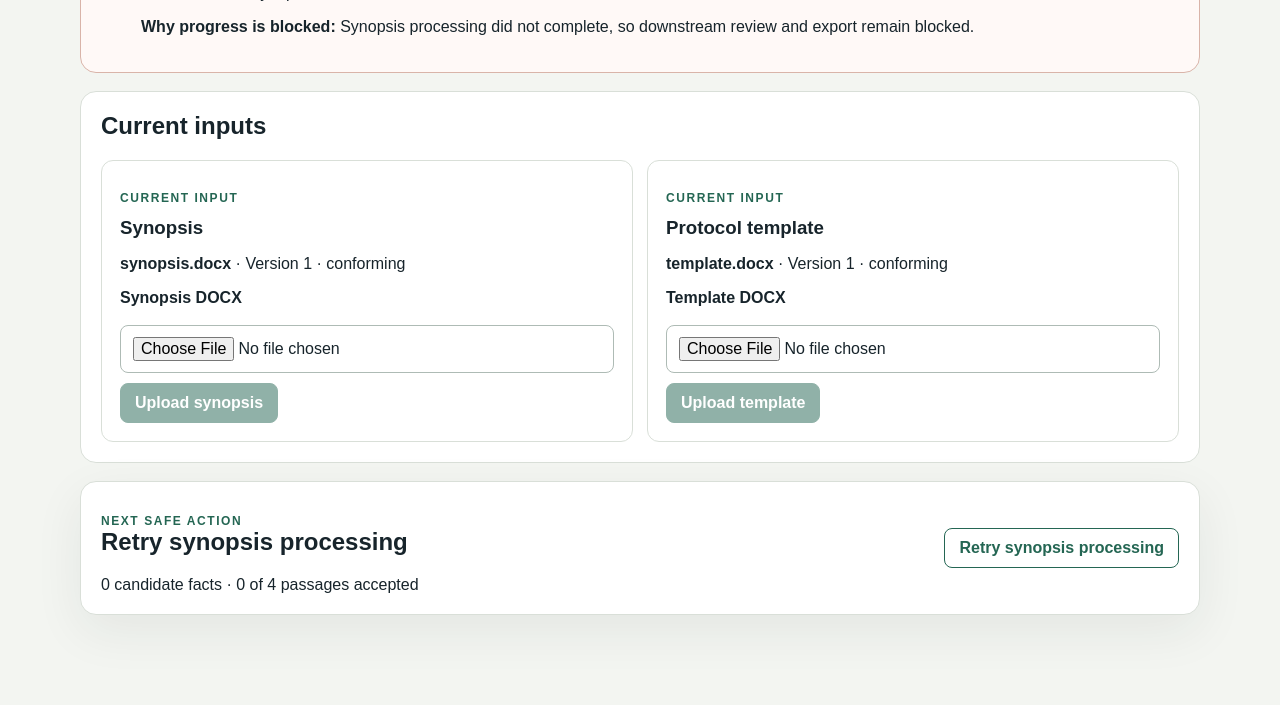
Test: WorkspaceGuide › shows processing findings and retry then replaces state from the authoritative response
This screenshot has width=1280, height=705.
(page scrolled)
Click the button "Retry synopsis processing".
click(1062, 548)  # box 944,528 -> 1179,568
(page scrolled)
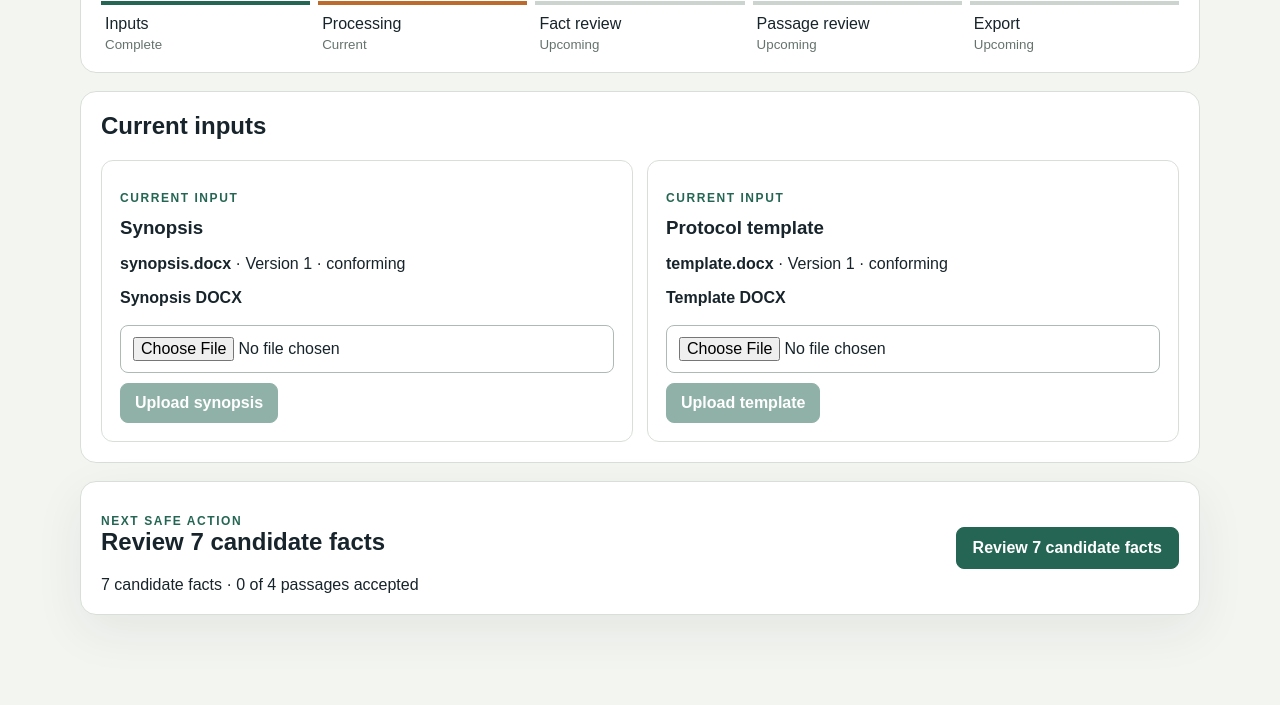
expect the link "Review 7 candidate facts" is shown: met, box 956,527 -> 1179,569
expect the text "7 candidate facts" is shown: met, box 101,528 -> 385,555
